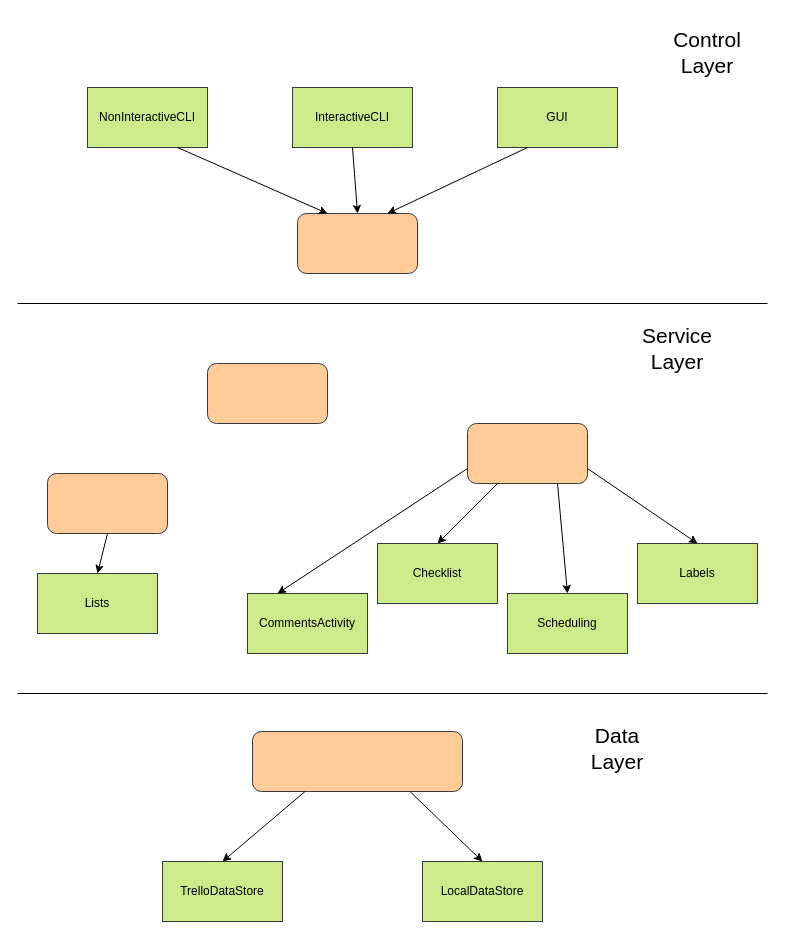
Some shapes in this 786 by 939 pixel diagram are drawn without their labels. The shapes that lost their labels are listed below. From the top down, each one's box as (x1, y1, x2, y2) in pixels, then its label:
(296, 212, 418, 274): CommandExecutor
(206, 362, 328, 424): AuthService
(466, 422, 588, 484): CardService
(46, 472, 168, 534): BoardService
(252, 730, 462, 792): Data Repository
